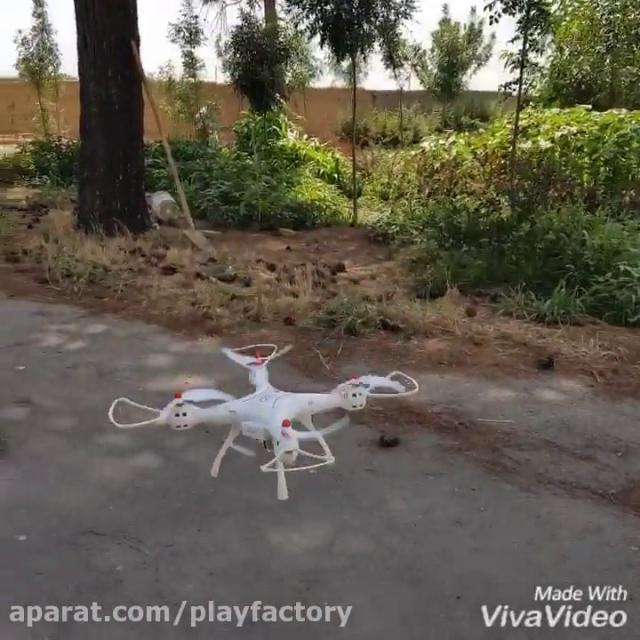drone: (108, 342, 420, 502)
